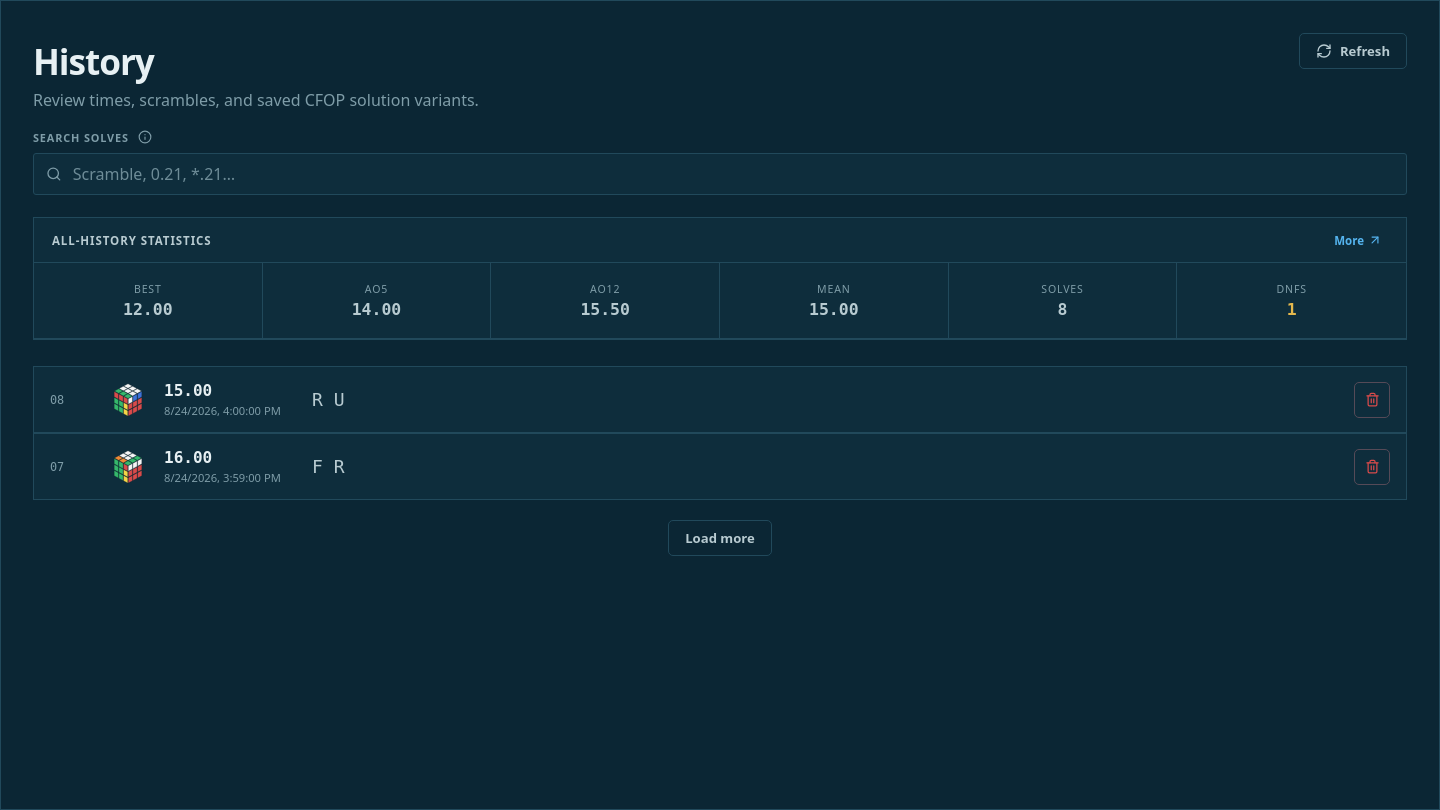
HistoryView filters › ignores IME composition until composition ends, clears immediately, and returns focus
The image size is (1440, 810).
Type "R U" into the search field labelled "Search solves" at (733,174), box [71, 154, 1396, 194]
Wait 800 ms
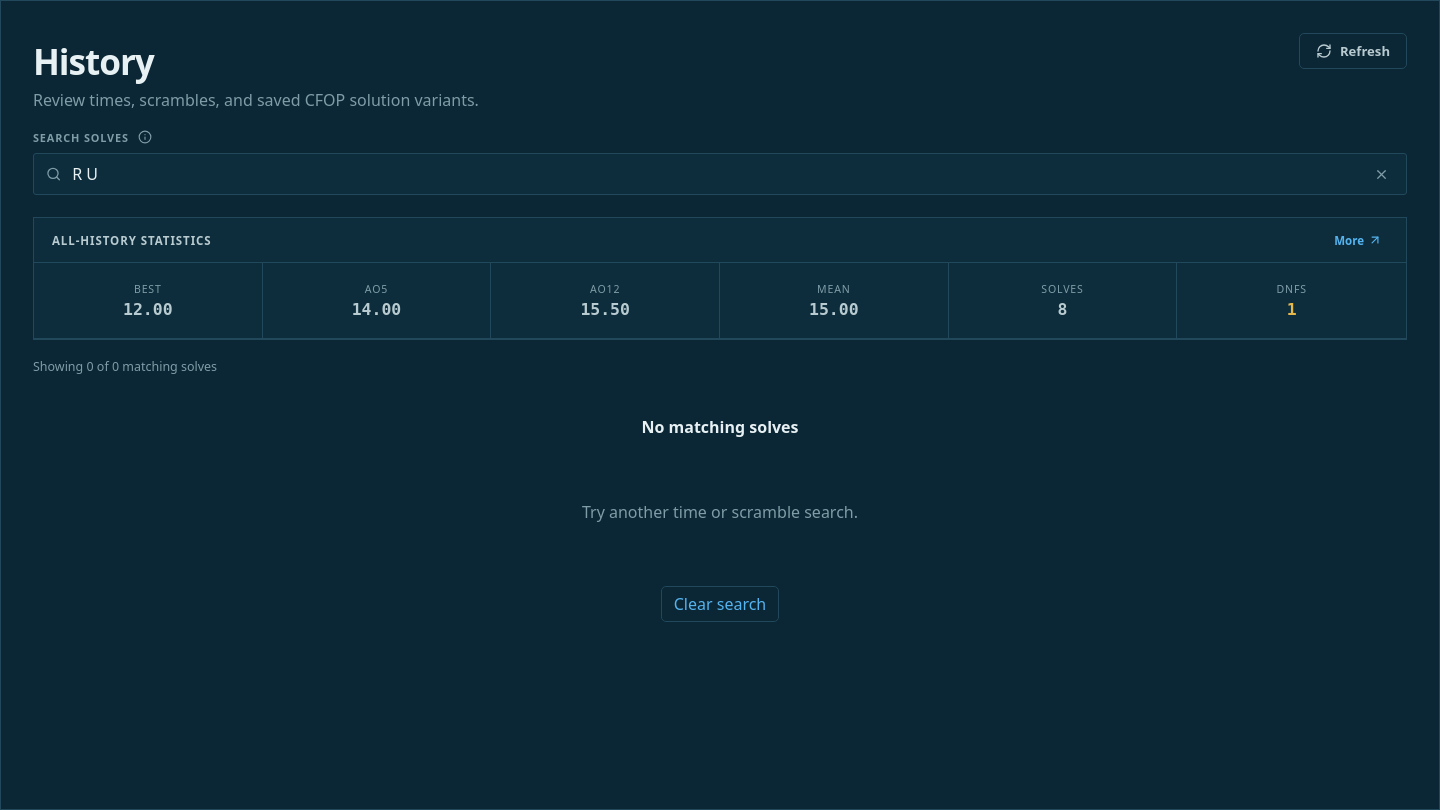
Click the button named "Clear search" at (1381,174), box [1366, 159, 1396, 189]
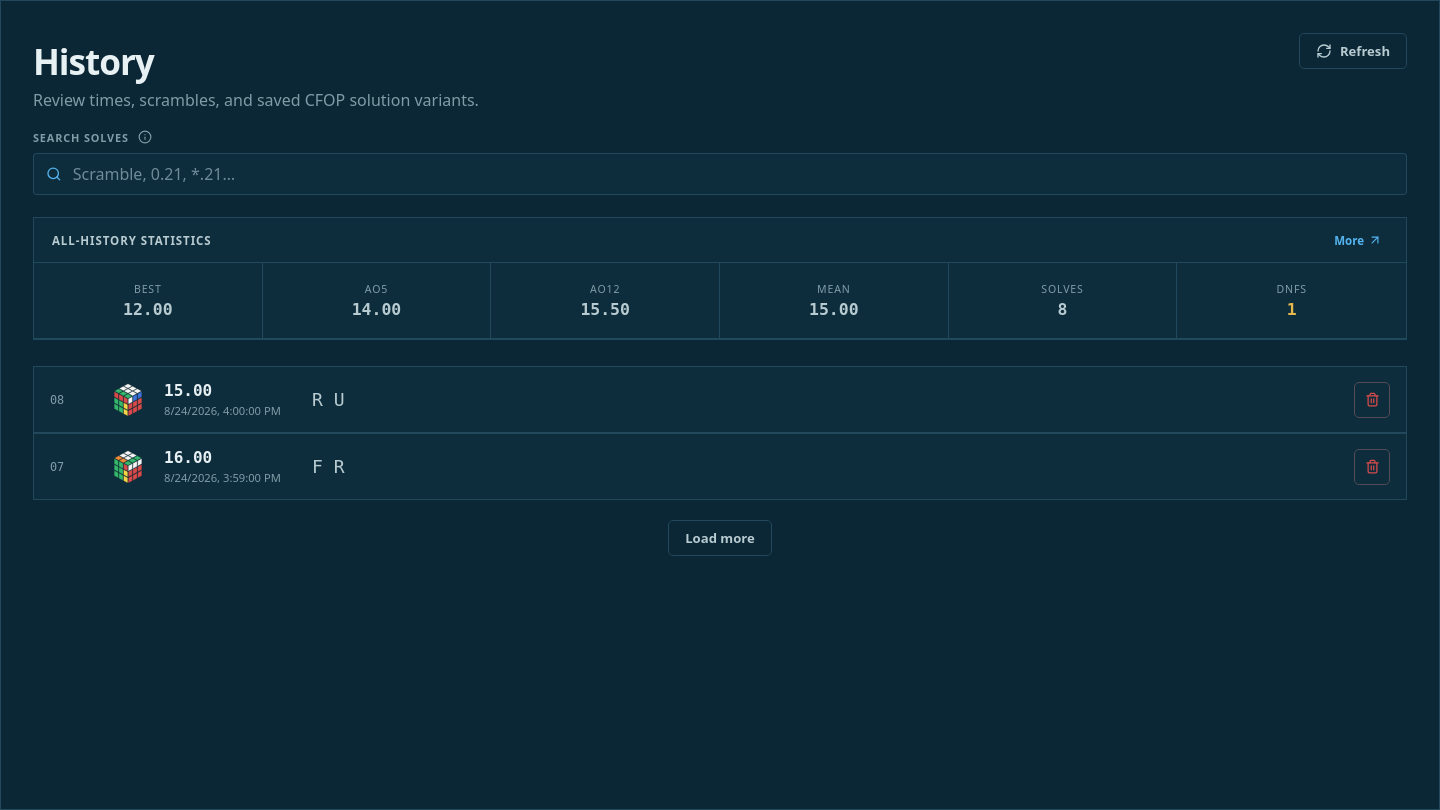
expect the search field labelled "Search solves" is empty: met, box [71, 154, 1396, 194]
expect the text "R U" is shown: met, box [312, 389, 344, 410]
